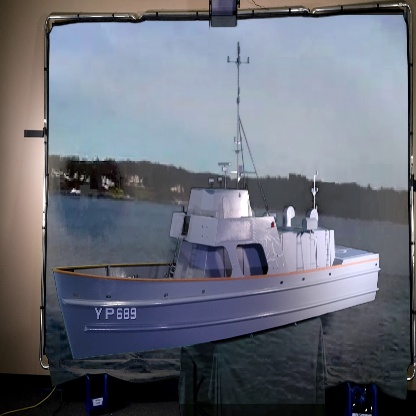YP689: (51, 44, 387, 362)
